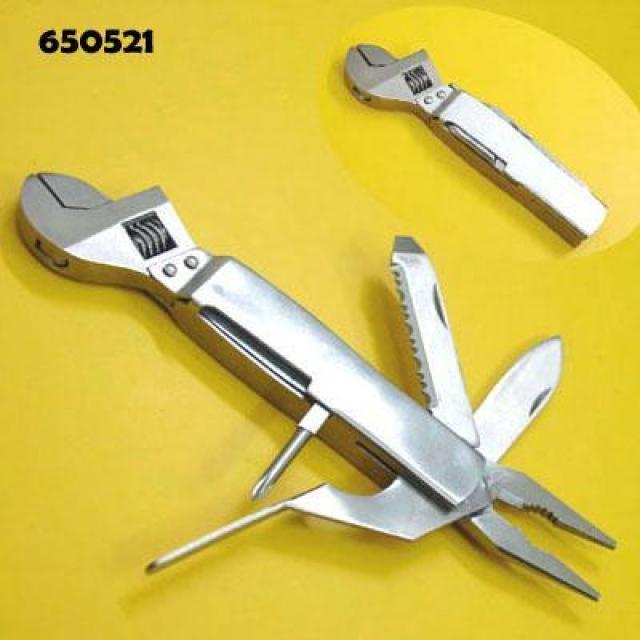wrench: (14, 162, 338, 406), (339, 36, 614, 252)
